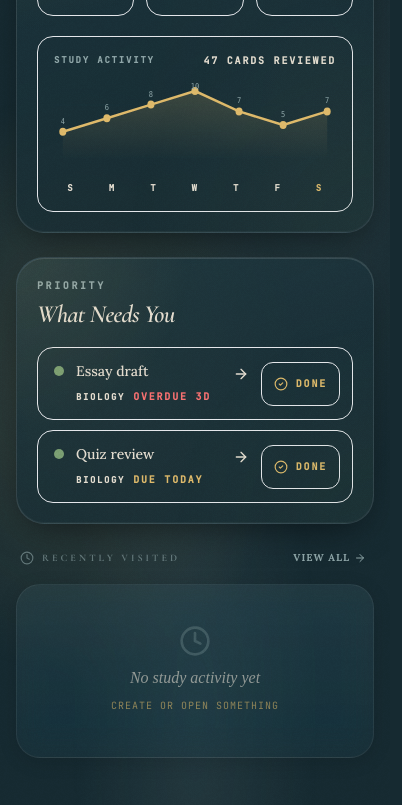
Test: DashboardHome analytics repositioning › marks a priority assignment complete from the dashboard and refreshes derived state immediately
The width and height of the screenshot is (402, 805).
(page scrolled)
Click the button with aria-label "mark essay draft complete". click: (300, 384)
box: [261,362,340,406]
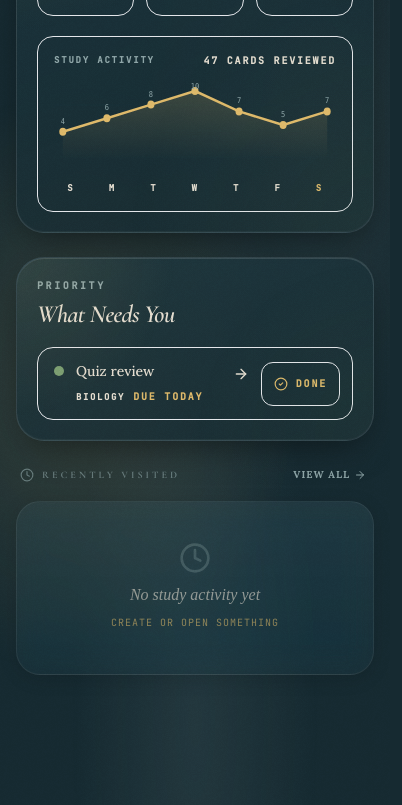
Check: the text "Quiz review" is shown, box [76,362,154,380]
Check: the link "Essay draft" is gone
